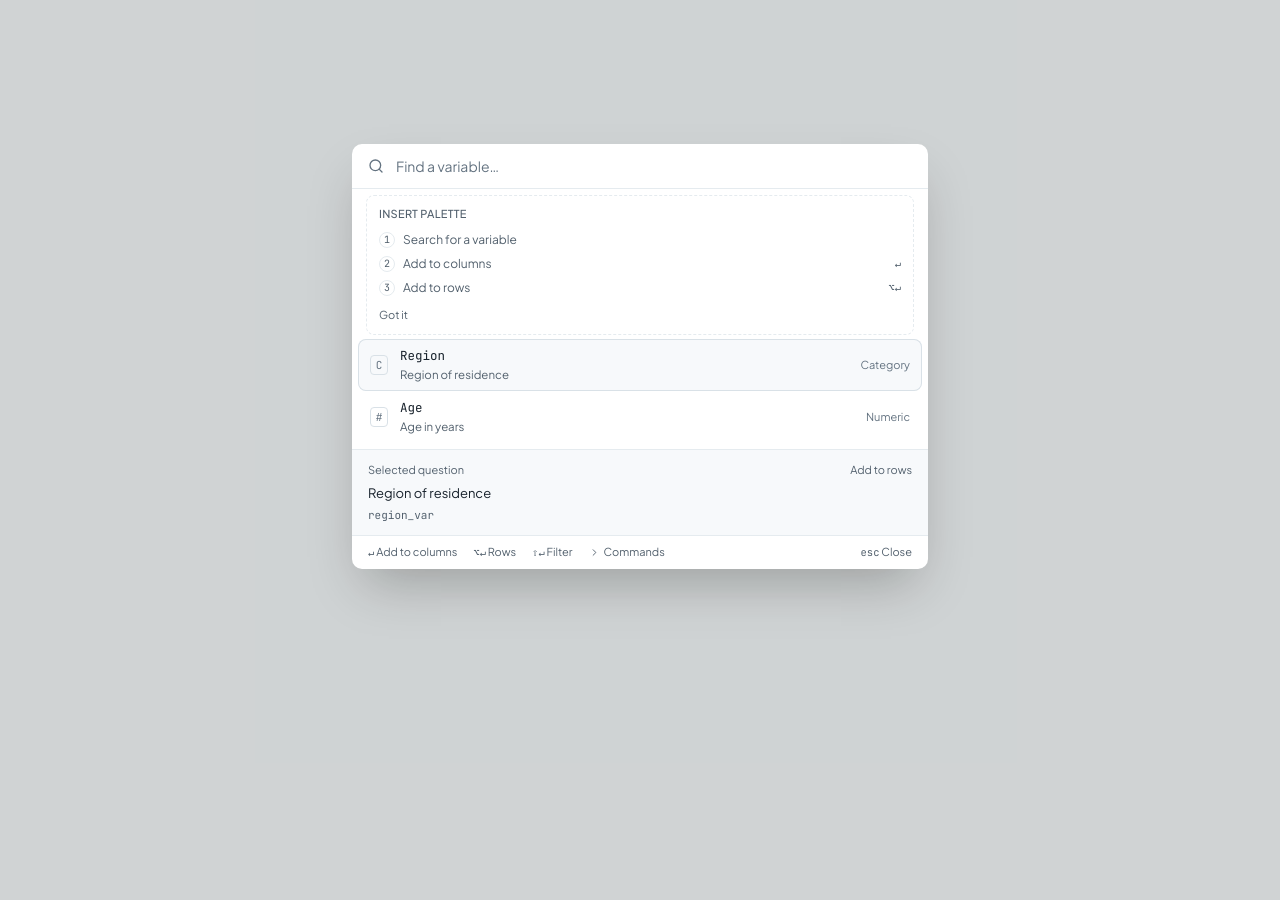
Test: CommandPalette (insert palette) › matches variables on underlying labels
The image size is (1280, 900).
Type "residence" into the field with placeholder "Find a variable…" at (654, 166), box [396, 156, 912, 176]
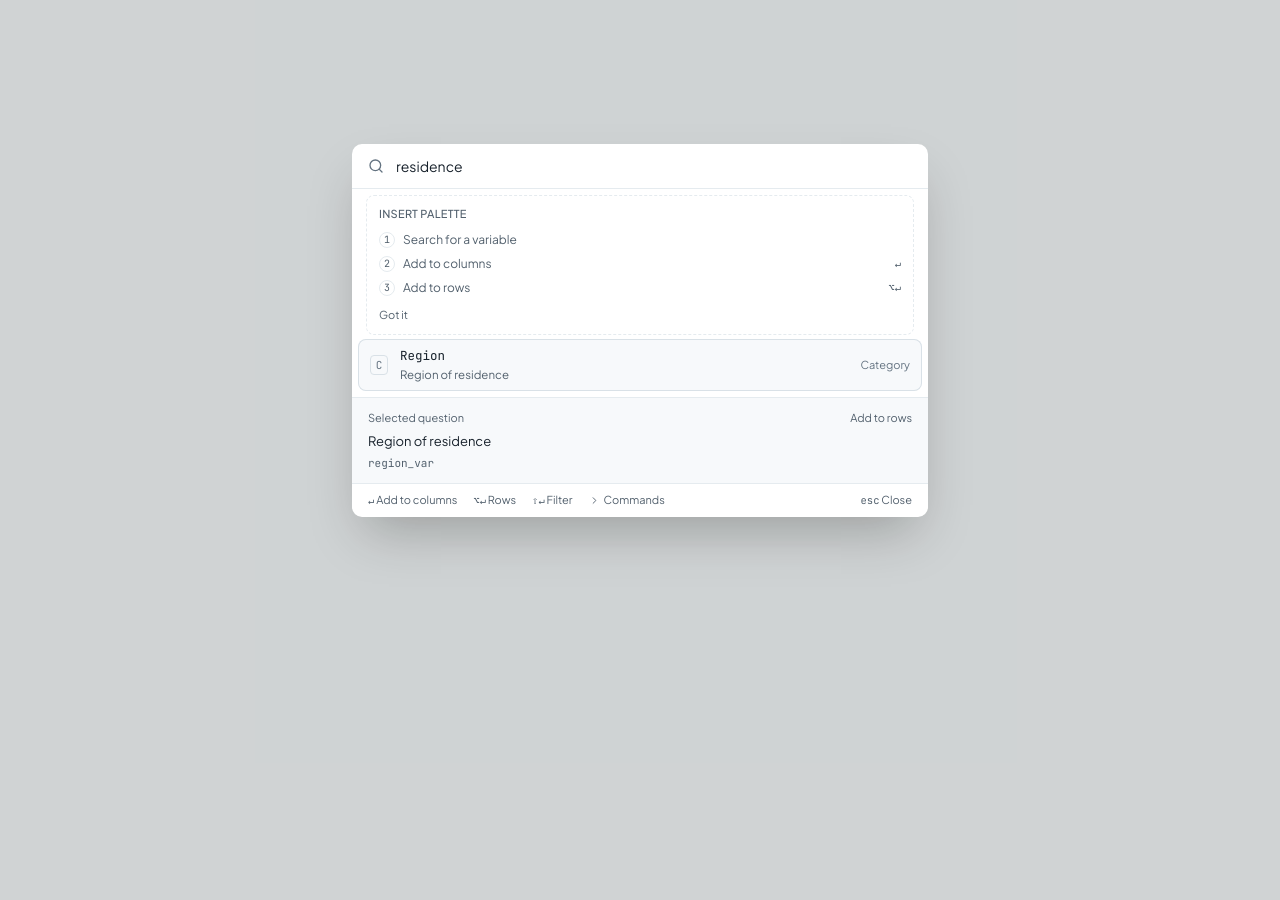
Expected: the text "Region" is shown, [400, 347, 445, 364]
Now the button "Age" is gone
